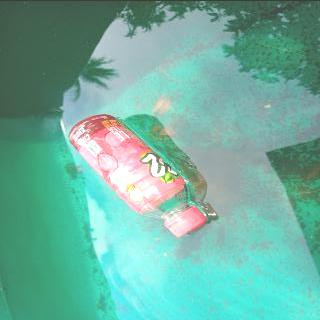bottle: (64, 110, 209, 240)
